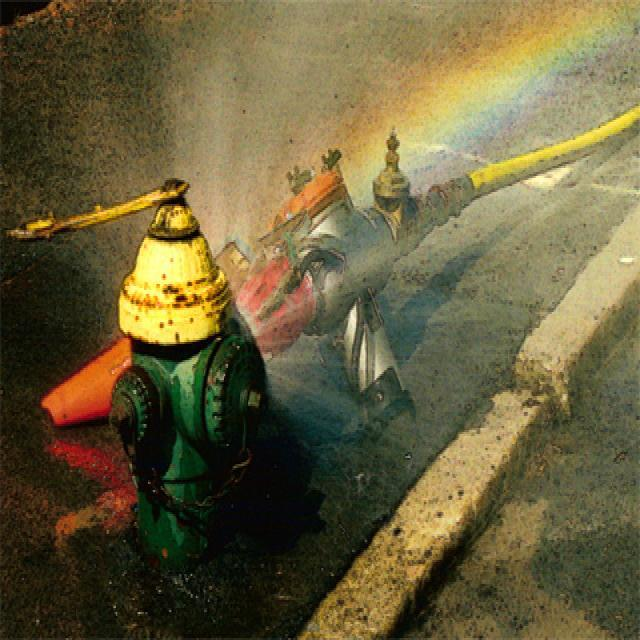fire_hydrant: (106, 182, 258, 584)
